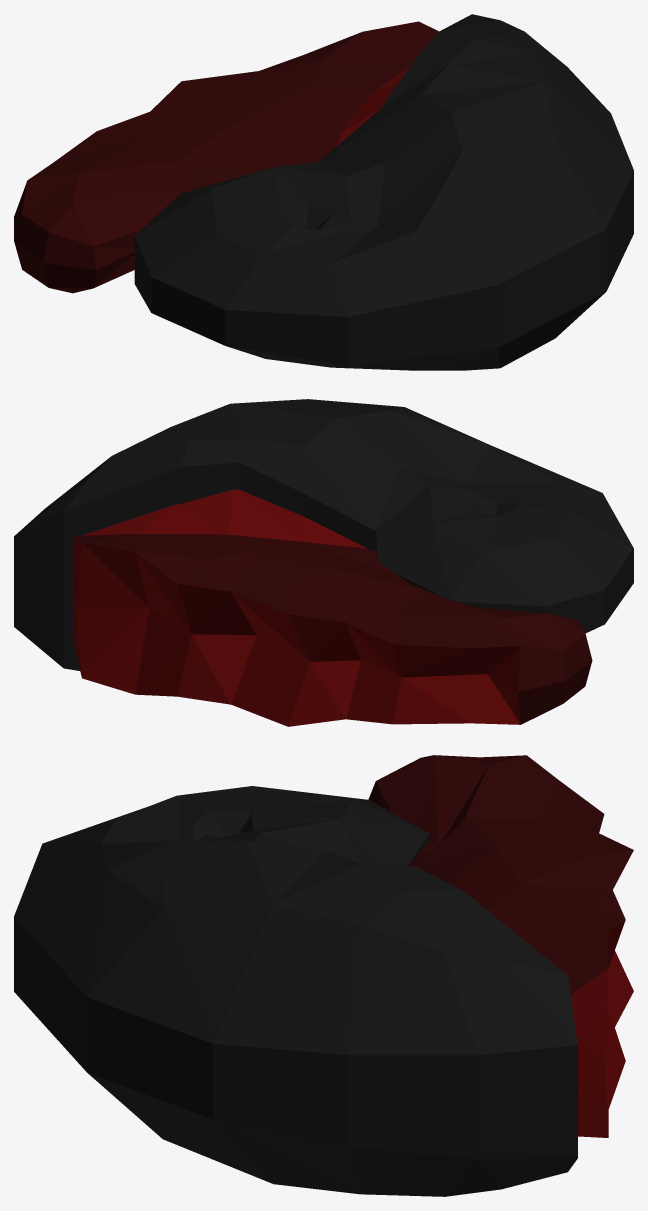
Rendered from FootSnail.glb.
3 renders of one model, top to bottom at view 1: azimuth 30°, elevation 25°; view 2: azimuth 150°, elevation 25°; view 3: azimuth 270°, elevation 25°, orthographic. The views are drawn at different scales.
Visible parts, largest first — view 1: FootSnail; view 2: FootSnail; view 3: FootSnail.
Boxes of the visible parts, x1,y1,x2,y2 form: FootSnail: (14,14,633,370); FootSnail: (14,399,633,726); FootSnail: (14,755,633,1196).
Size of the model in its own units: 0.0862 by 0.0367 by 0.0706.
1 material, 1 textured.
